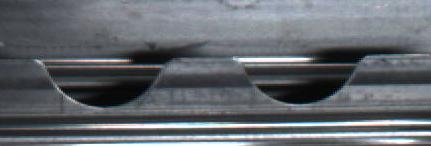twou: (38, 40, 360, 114)
